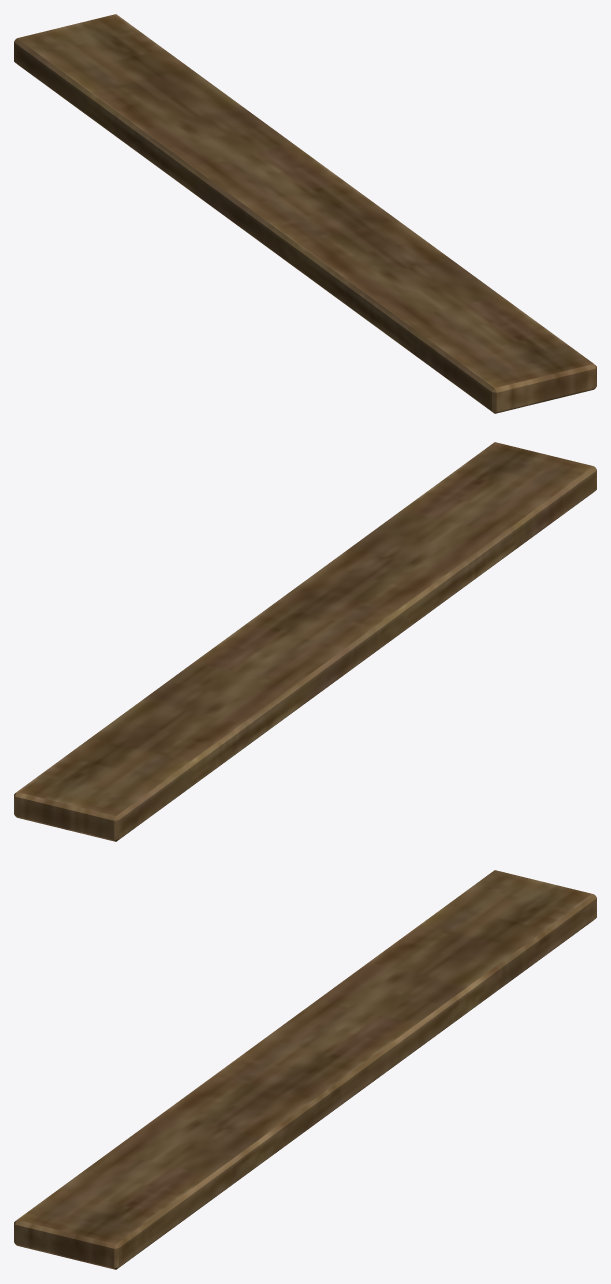
The model's file is SM_Wood_B.glb.
3 renders of one model, top to bottom at view 1: azimuth 30°, elevation 25°; view 2: azimuth 150°, elevation 25°; view 3: azimuth 330°, elevation 25°, orthographic.
Parts seen in each view (by area): view 1: SM_Wood_B; view 2: SM_Wood_B; view 3: SM_Wood_B.
Part boxes in pixels (x1,y1,x2,y2): SM_Wood_B: (14, 14, 596, 413); SM_Wood_B: (14, 442, 596, 841); SM_Wood_B: (14, 870, 596, 1269).
Size of the model in its own units: 0.2516 by 0.0591 by 2.
1 material, 1 textured.
